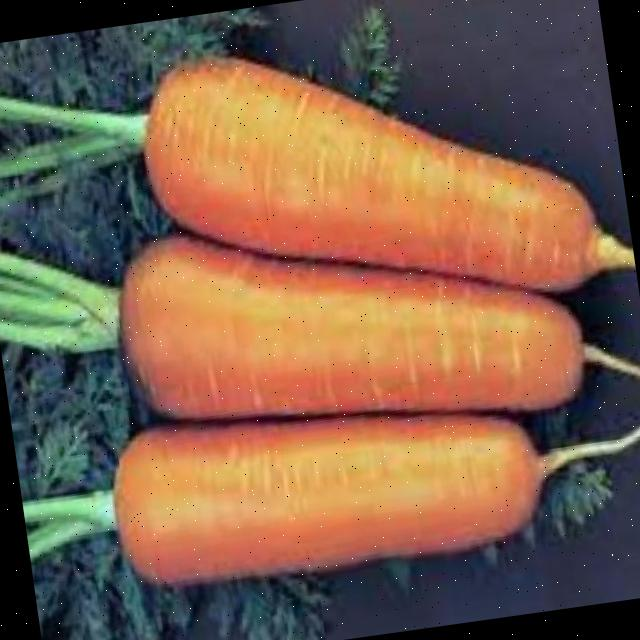carrot: (0, 58, 635, 290), (0, 236, 640, 418), (23, 414, 640, 583)
